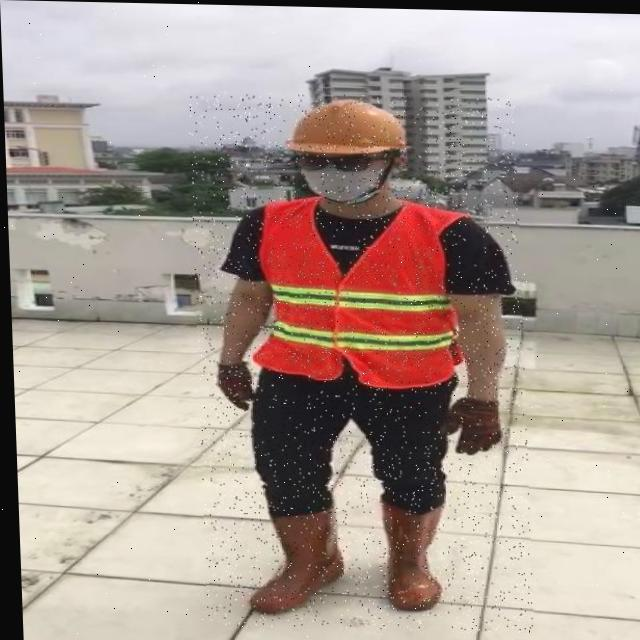Gloves: (443, 393, 500, 453), (214, 360, 253, 410)
Helmet: (284, 95, 411, 204)
Safety-Boot: (242, 504, 343, 615), (377, 491, 444, 610)
Safety-Vest: (246, 192, 474, 388)
